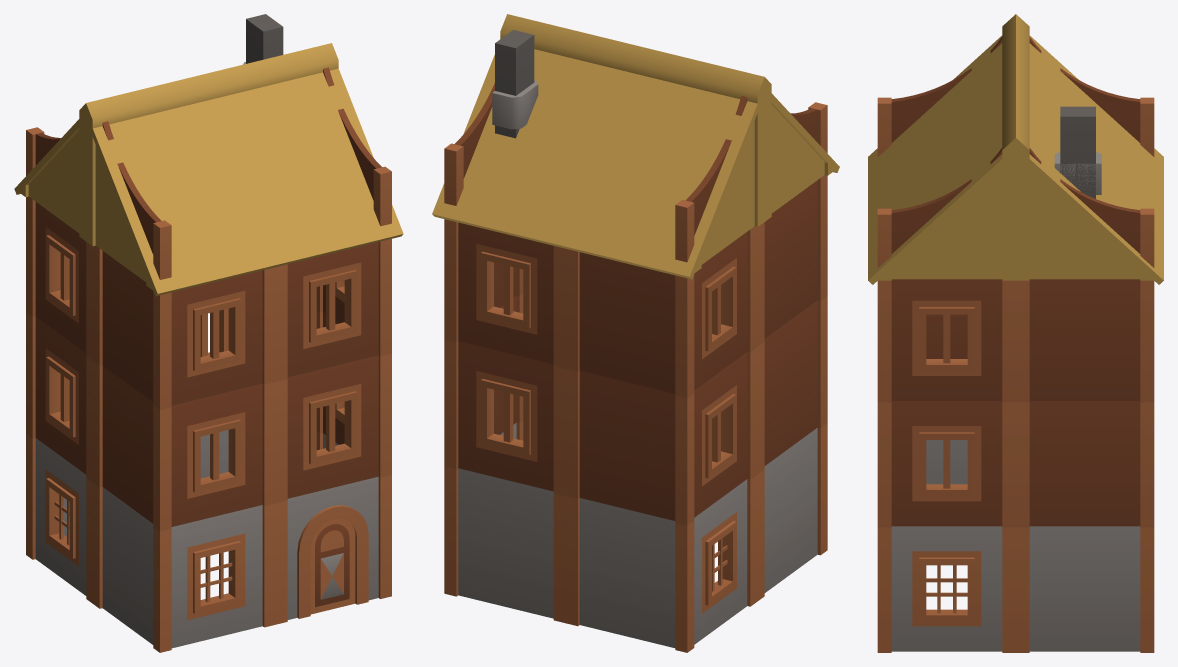
File: maison-vent-1.glb
3 renders of one model, left to right at view 1: azimuth 30°, elevation 25°; view 2: azimuth 150°, elevation 25°; view 3: azimuth 270°, elevation 25°, orthographic. The views are drawn at different scales.
Parts seen in each view (by area): view 1: wall-window-shutters, roof-high; view 2: wall-window-shutters, roof-high; view 3: wall-window-shutters, roof-high.
Boxes of the visible parts, x1,y1,x2,y2 form: wall-window-shutters: [26, 14, 391, 652]; roof-high: [14, 43, 403, 296]; wall-window-shutters: [444, 30, 827, 652]; roof-high: [432, 14, 839, 279]; wall-window-shutters: [877, 37, 1154, 652]; roof-high: [868, 14, 1163, 284].
Bounding box in the file's own units: 6.36 × 12.6 × 6.42.
Materials: 2 (1 with a texture image).
